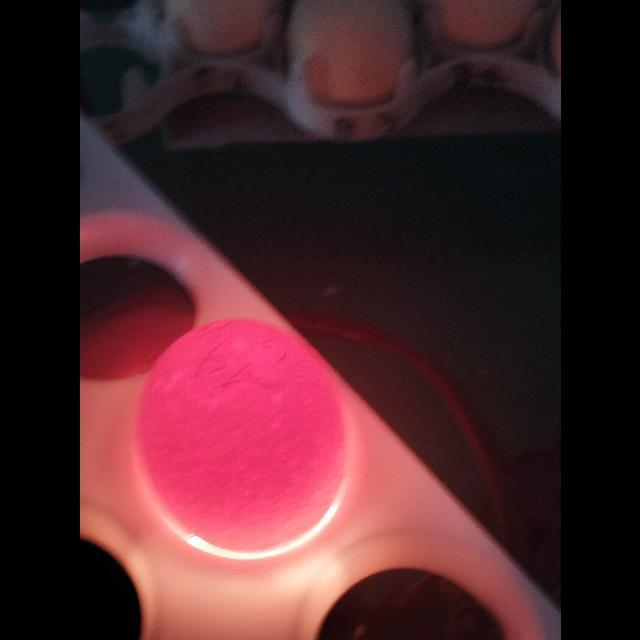Infertile: (136, 316, 348, 554)
